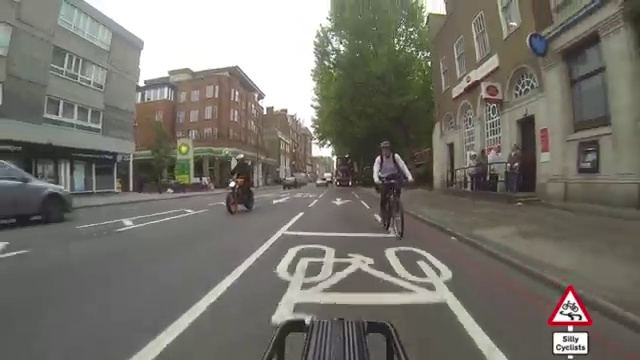cyclist_front: (368, 142, 411, 243), (225, 152, 257, 217)
